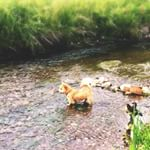puppy: (57, 79, 97, 109)
